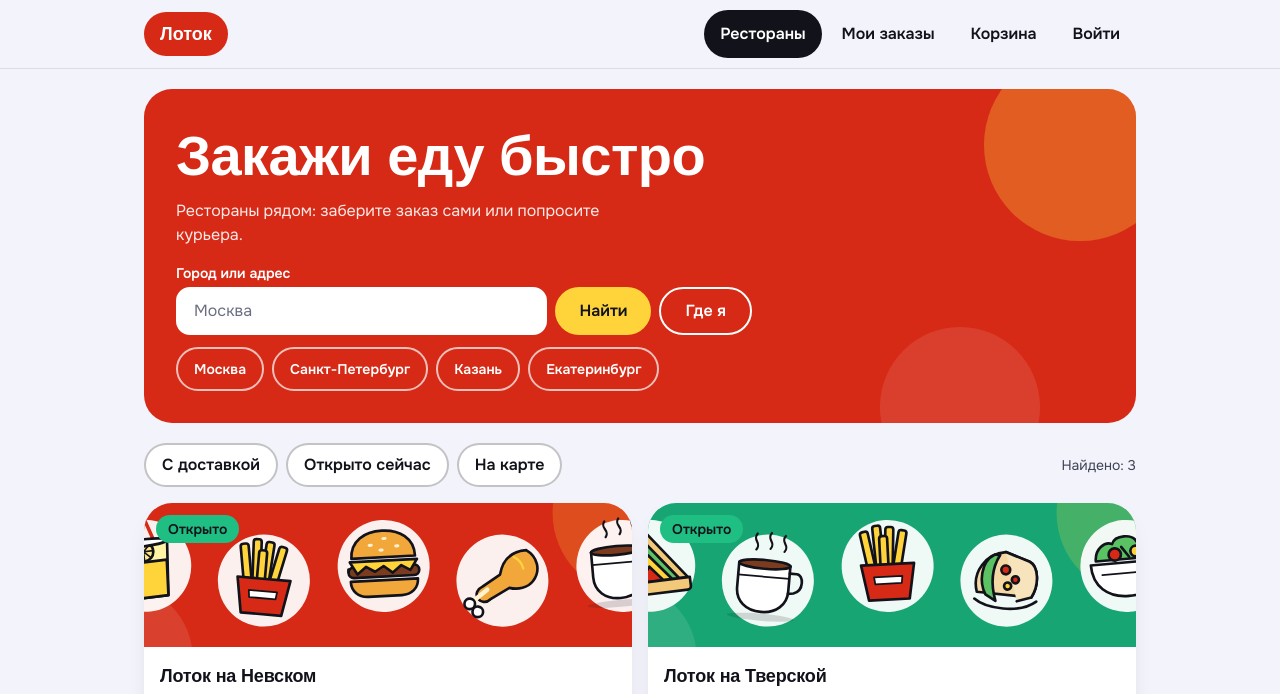
главная: координаты › значение вне диапазона подсвечивается, запрос не уходит с неполными данными
Click the button "На карте": (510,465) [457,443,562,487]
(page scrolled)
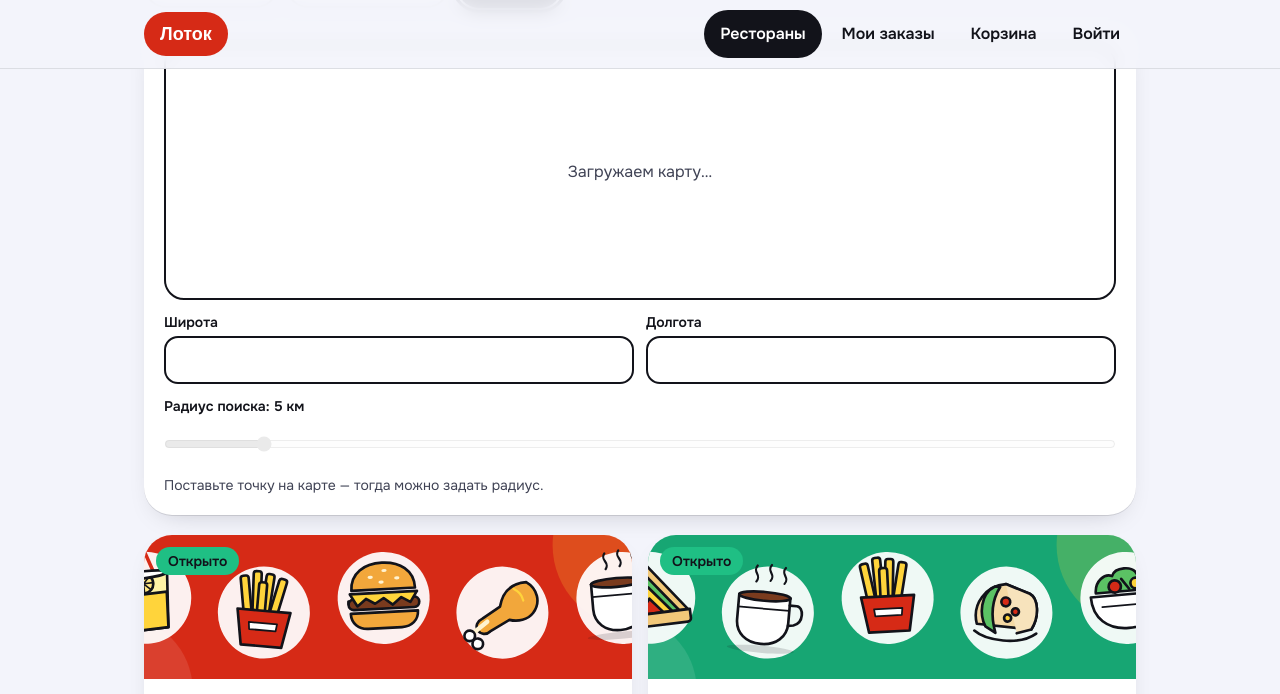
In the field labelled "Широта": (399,360) [164,336,634,384], type "95"
(page scrolled)
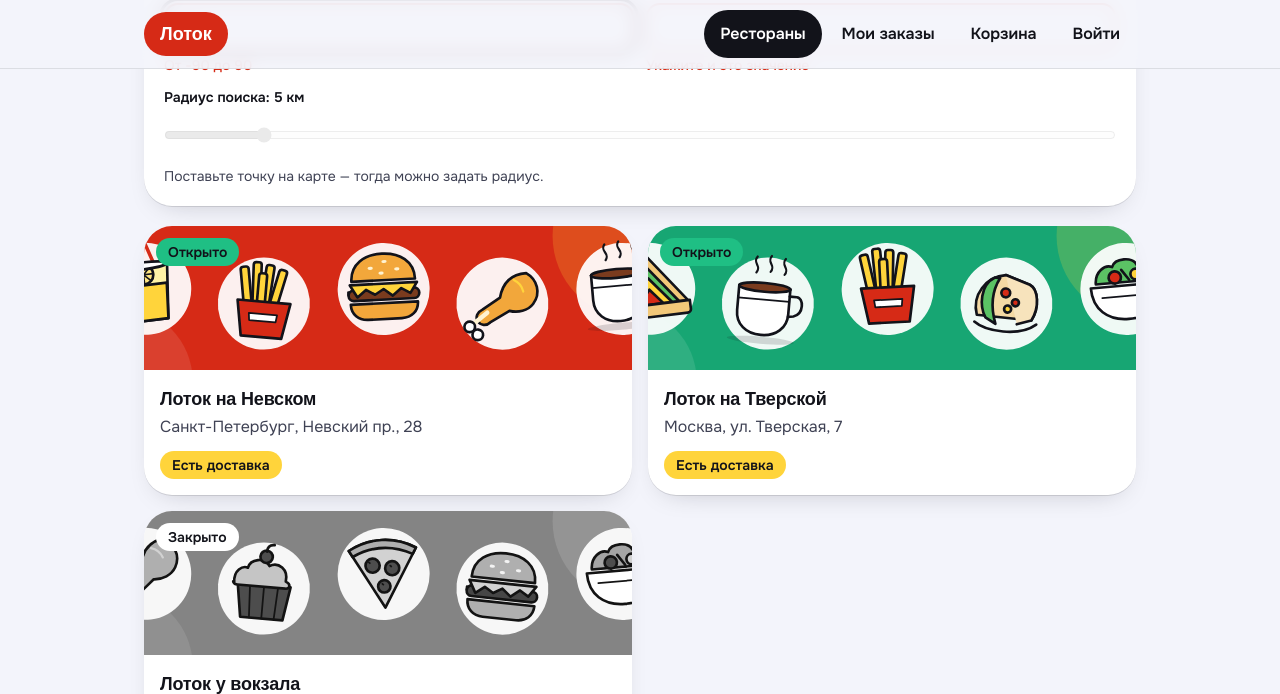
Expected: the link "Лоток на Тверской" is shown, [648,226,1136,495]
Now the text "От -90 до 90" is shown, box [164,56,252,74]
Now the text "Укажите и это значение" is shown, box [646,56,809,74]
